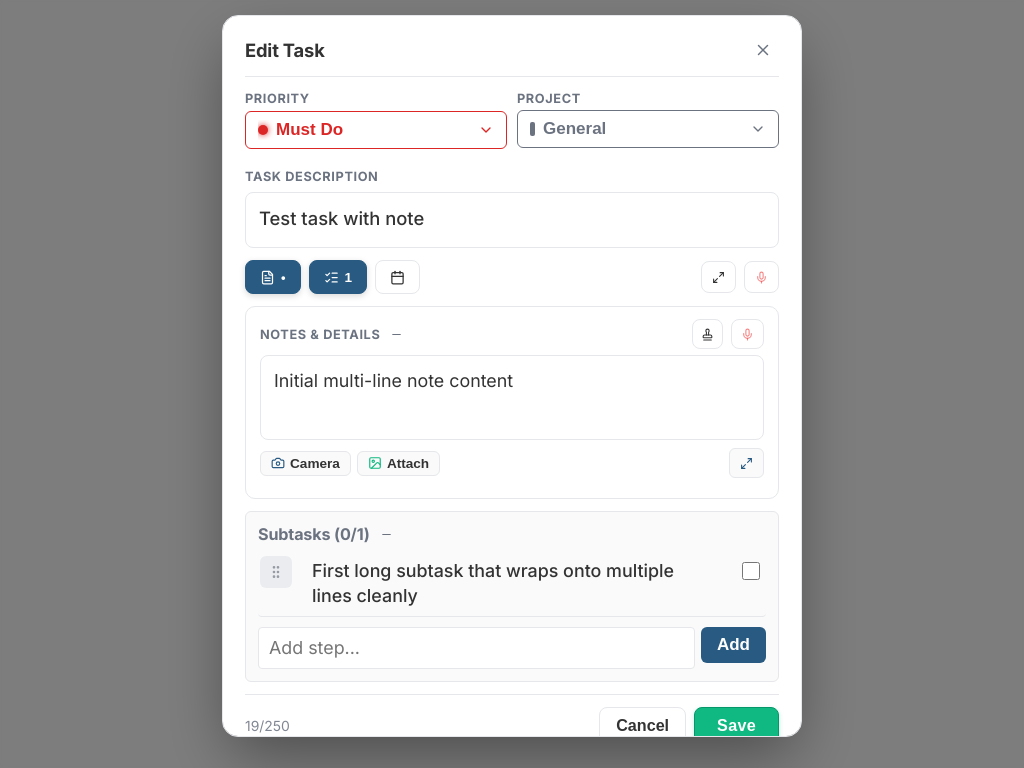
Test: EditModal › renders timestamp button and places expand button at the bottom right in place of photos counter
The width and height of the screenshot is (1024, 768).
Expected: the button titled "Open Full Screen Focus Editor for Notes" below "Initial multi-line note content" is shown, [729,448,764,478]
Note: Clicking timestamp button appends a timestamp tag to notes
Click the button named "+ Timestamp": {"x": 708, "y": 334} [692,319,723,349]
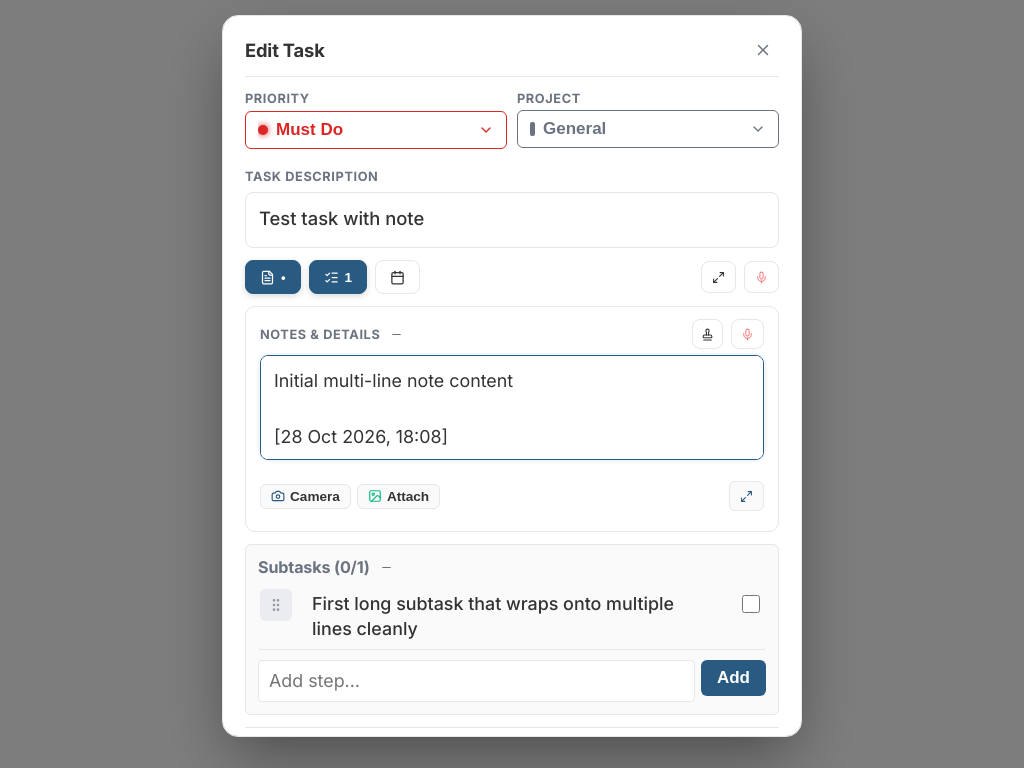
Expected: the text box below "Notes & Details" is shown, [260,355,764,460]
